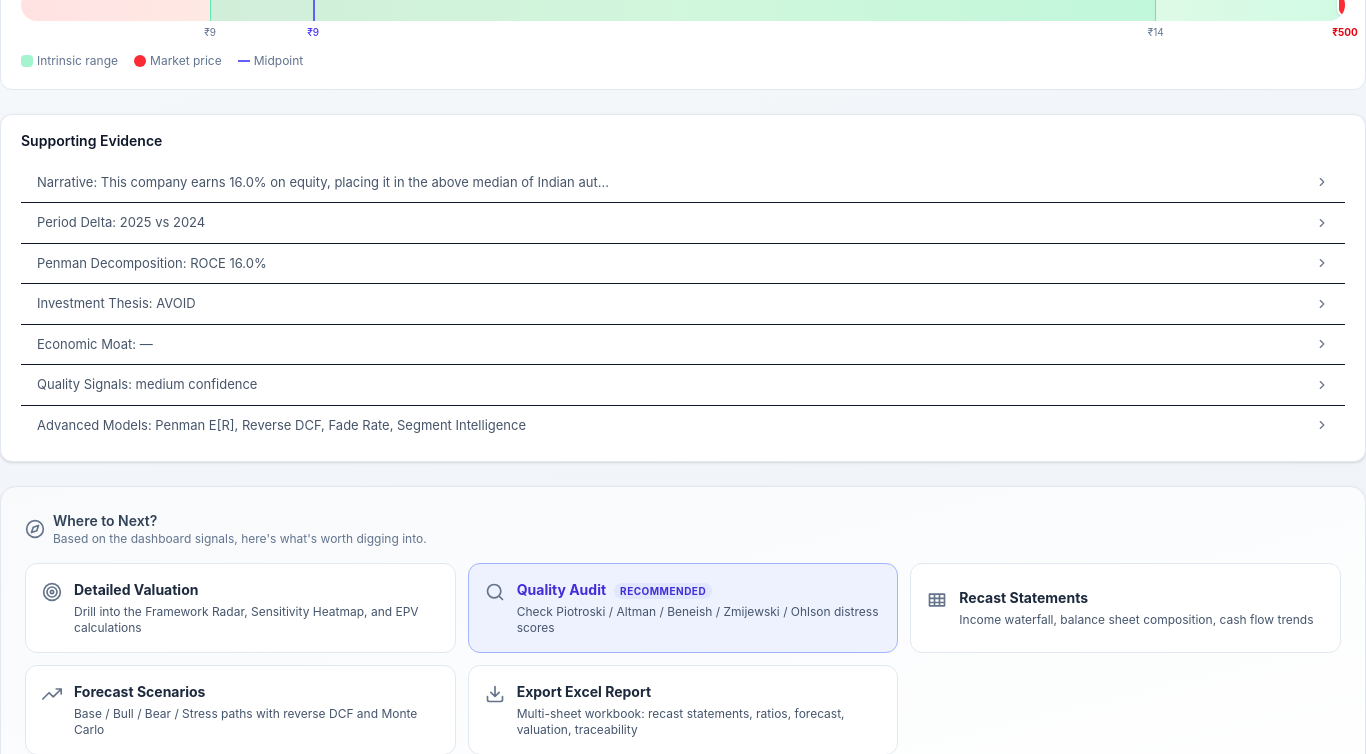
Test: DashboardView — the Earnings Quality tile › renders the tile with no envelope at all, and claims nothing
(page scrolled)
Click the button "Quality Signals: medium confidence". click: (147, 384)
box: left=21, top=365, right=1345, bottom=404
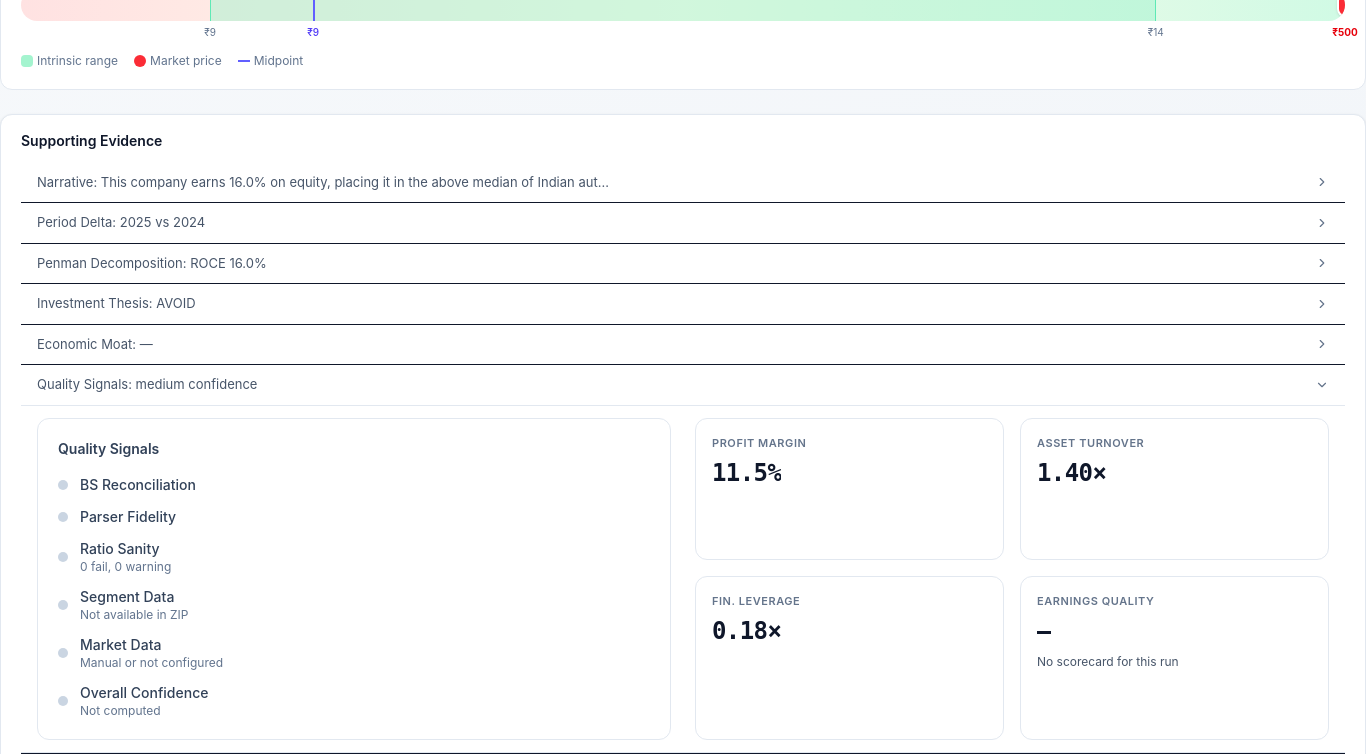
Expected: the element with class "wb-metric" that starts with "Earnings Quality" is shown, left=1020, top=576, right=1329, bottom=740
